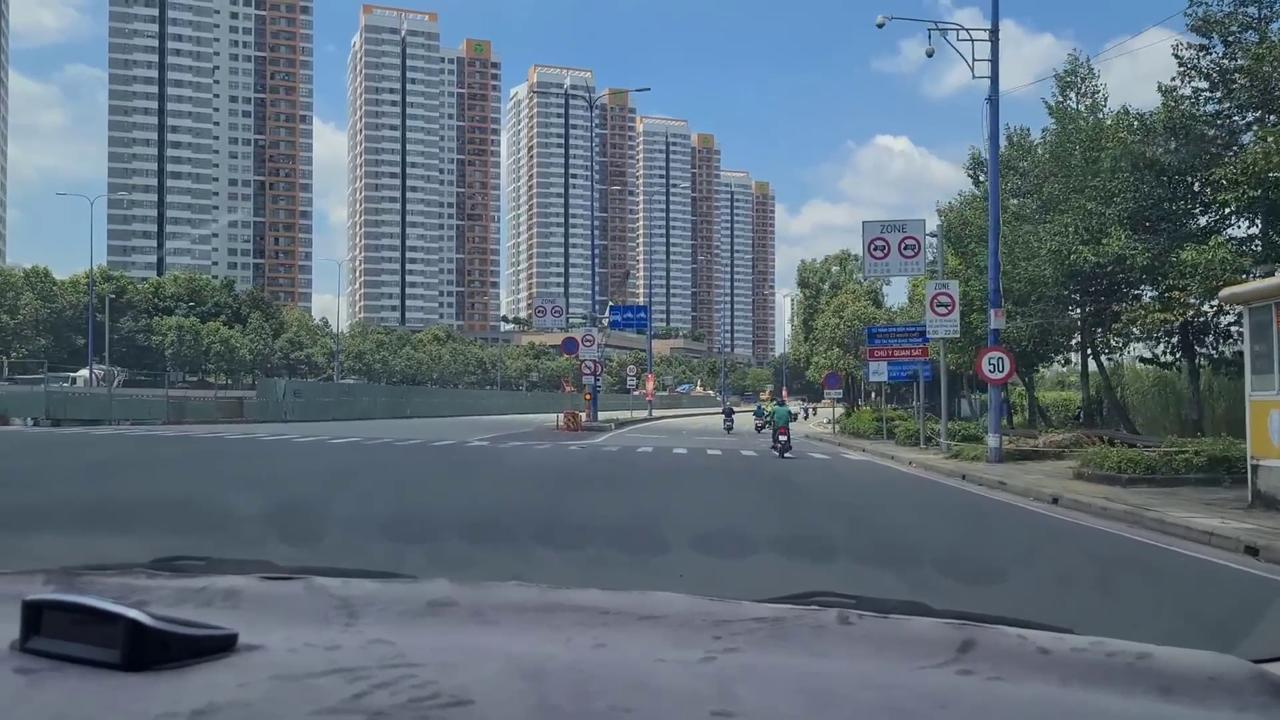Biển phụ: (627, 377, 636, 388)
Cấm cac phương tiện hoạt động trong khung giờ cố định: (861, 218, 927, 277), (924, 278, 960, 338), (531, 296, 567, 328), (578, 326, 598, 360)
Cấm dừng - Cấm đỗ: (560, 335, 582, 357), (822, 371, 844, 390)
Cấm xe máy: (580, 359, 596, 376)
Giới hạn tốc độ 50Km/h: (974, 346, 1017, 384)
Giới hạn tốc độ 80Km/h: (626, 364, 638, 376)
Khác: (864, 324, 934, 383)
Làn đường cho từng xe: (608, 302, 648, 329)
